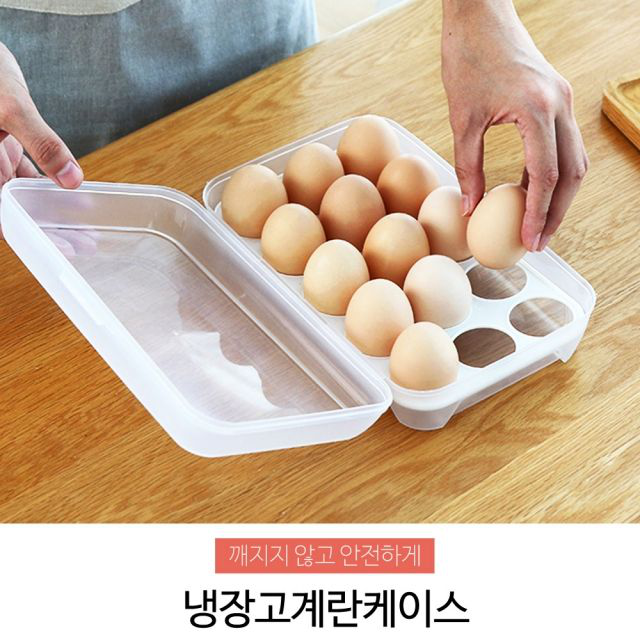egg: (220, 115, 472, 409), (466, 185, 532, 271)
